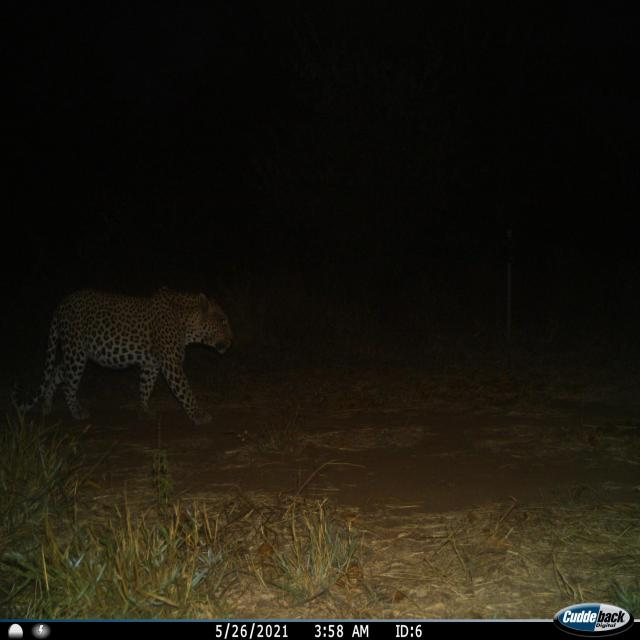Leopard: (23, 280, 239, 440)
